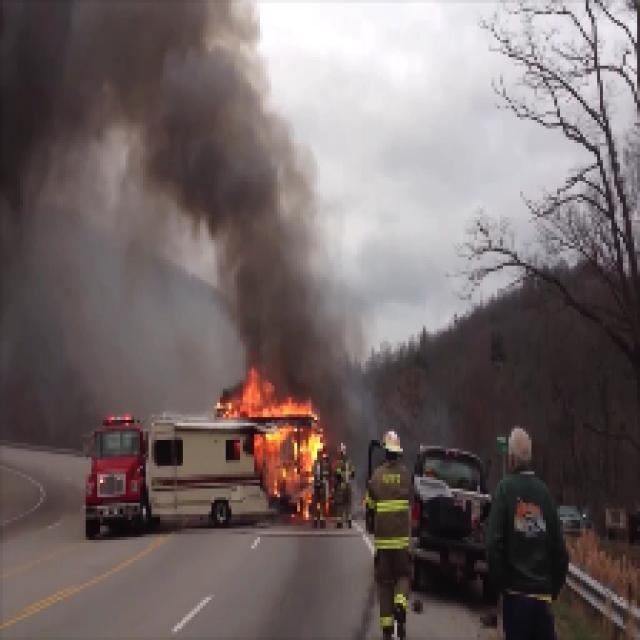Smoke: (29, 20, 202, 114), (188, 132, 290, 236), (242, 265, 316, 384), (230, 390, 319, 472)
